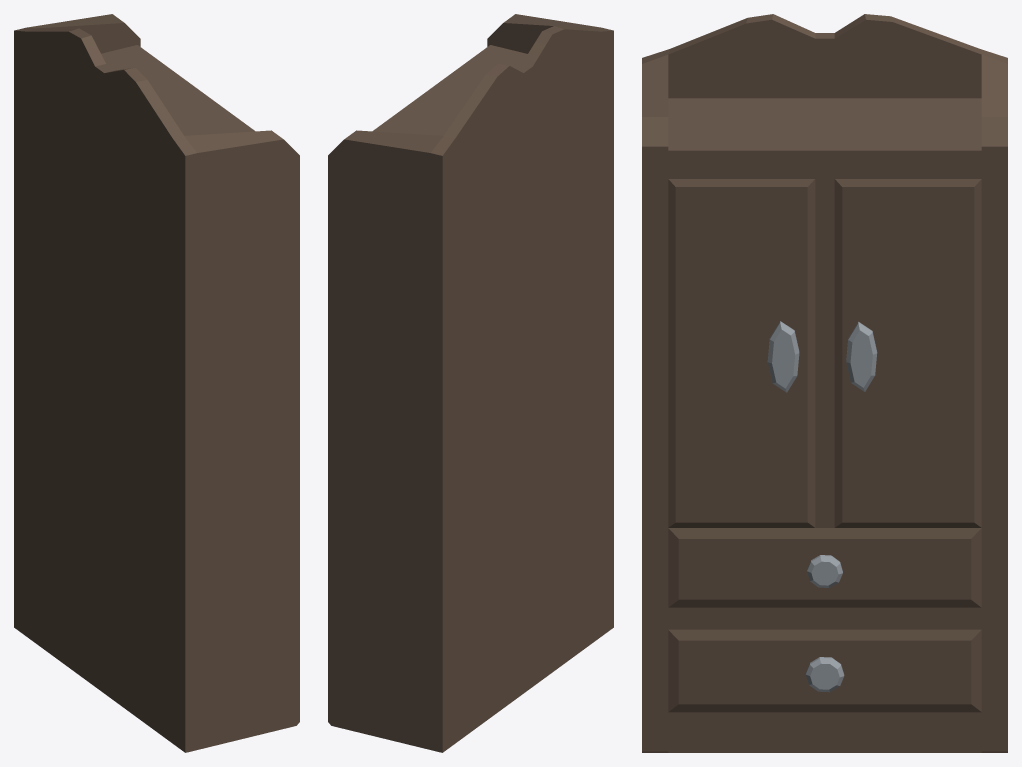
The model's file is Wardrobe.fbx.
3 renders of one model, left to right at view 1: azimuth 30°, elevation 25°; view 2: azimuth 150°, elevation 25°; view 3: azimuth 270°, elevation 25°, orthographic. The views are drawn at different scales.
Visible parts, largest first — view 1: Wardrobe; view 2: Wardrobe; view 3: Wardrobe.
Part boxes in pixels (x1,y1,x2,y2): Wardrobe: [14, 14, 299, 752]; Wardrobe: [328, 14, 613, 752]; Wardrobe: [642, 14, 1007, 752].
Size of the model in its own units: 23.87 by 119 by 57.88.
